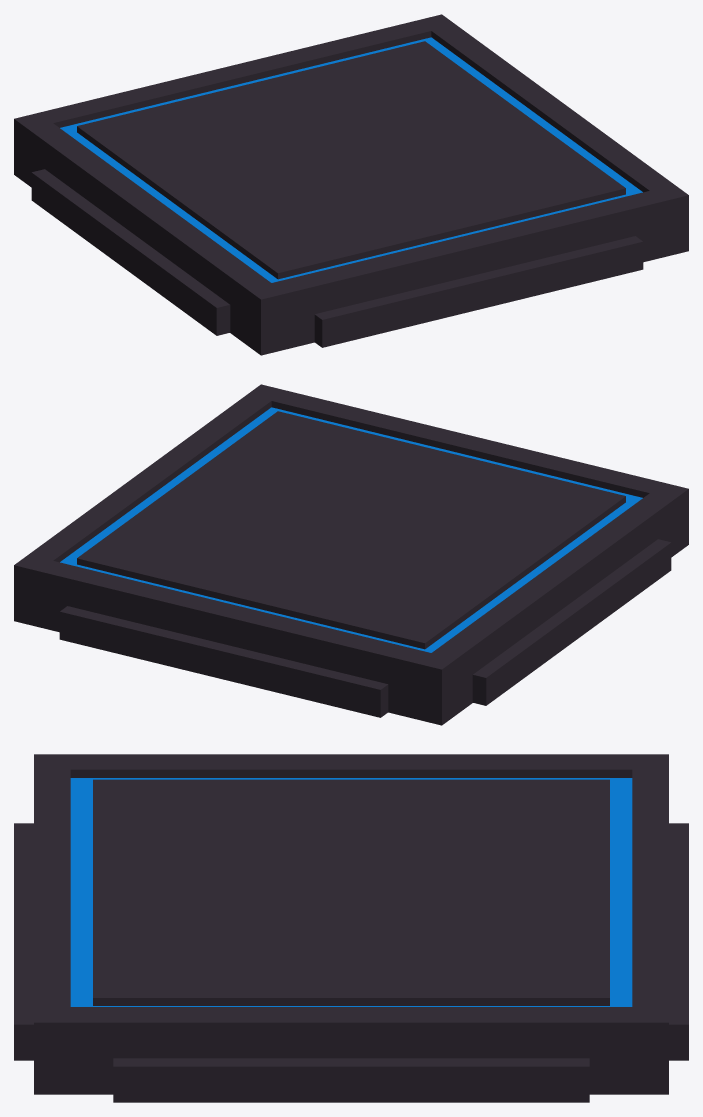
Rendered from WeaponPlatform.fbx.
3 renders of one model, top to bottom at view 1: azimuth 30°, elevation 25°; view 2: azimuth 150°, elevation 25°; view 3: azimuth 270°, elevation 25°, orthographic. The views are drawn at different scales.
Parts seen in each view (by area): view 1: Cube.001; view 2: Cube.001; view 3: Cube.001.
Part boxes in pixels (left/top/right/bottom): Cube.001: left=14, top=14, right=688, bottom=355; Cube.001: left=14, top=384, right=688, bottom=725; Cube.001: left=14, top=754, right=688, bottom=1102.
Size of the model in its own units: 850 by 100 by 850.
